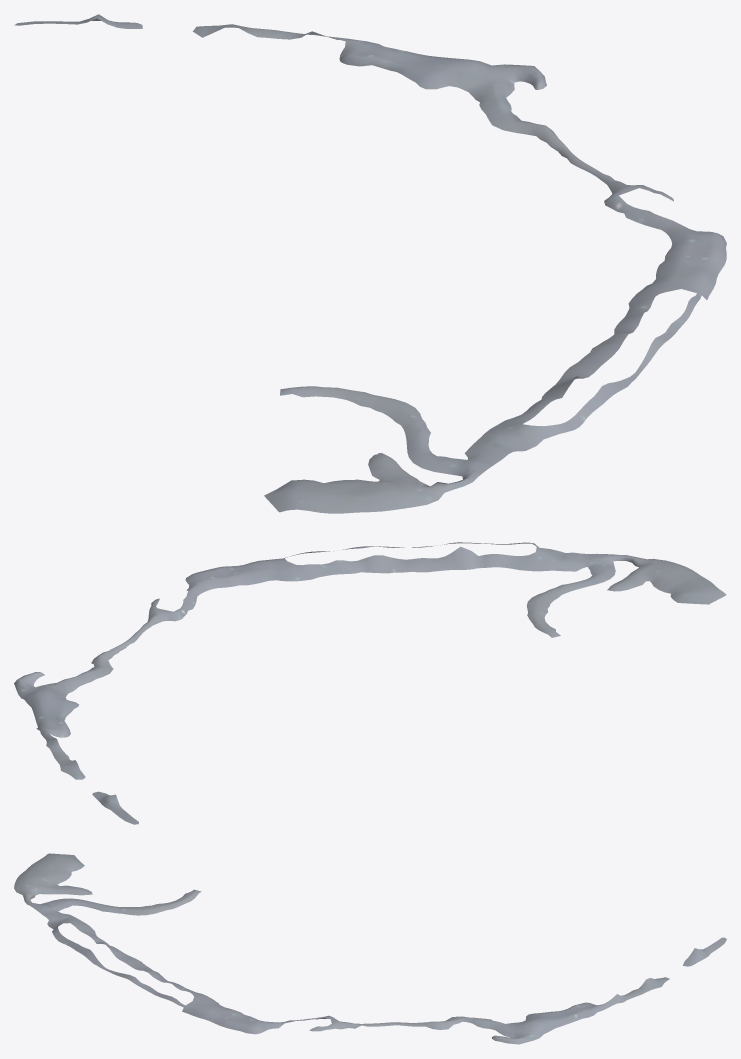
The model's file is pref_sm_beach_winter_blocksnow02a_lv3.fbx.
The picture shows the model from 3 angles, top to bottom: view 1: azimuth 30°, elevation 25°; view 2: azimuth 150°, elevation 25°; view 3: azimuth 270°, elevation 25°; orthographic projection. The views are drawn at different scales.
Visible parts, largest first — view 1: pref_sm_beach_winter_blocksnow02a_lv3; view 2: pref_sm_beach_winter_blocksnow02a_lv3; view 3: pref_sm_beach_winter_blocksnow02a_lv3.
Boxes of the visible parts, x1,y1,x2,y2 form: pref_sm_beach_winter_blocksnow02a_lv3: (14, 14, 726, 513); pref_sm_beach_winter_blocksnow02a_lv3: (14, 542, 726, 824); pref_sm_beach_winter_blocksnow02a_lv3: (14, 853, 726, 1044).
Size of the model in its own units: 27.29 by 0.9626 by 43.16.
